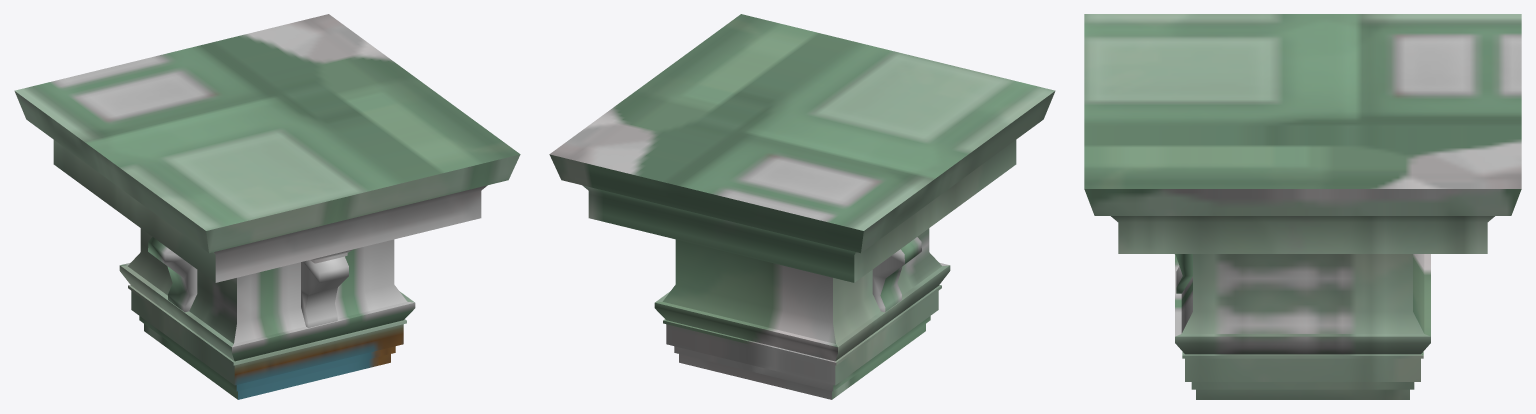
Rendered from qVin_Buld1_RoofColumn_Right.fbx.
3 renders of one model, left to right at view 1: azimuth 30°, elevation 25°; view 2: azimuth 150°, elevation 25°; view 3: azimuth 270°, elevation 25°, orthographic. The views are drawn at different scales.
Visible parts, largest first — view 1: qVin_Buld1_RoofColumn_Right; view 2: qVin_Buld1_RoofColumn_Right; view 3: qVin_Buld1_RoofColumn_Right.
Part boxes in pixels (x1,y1,x2,y2): qVin_Buld1_RoofColumn_Right: (14,14,520,399); qVin_Buld1_RoofColumn_Right: (549,14,1055,399); qVin_Buld1_RoofColumn_Right: (1084,14,1521,399).
Bounding box in the file's own units: 218 × 149 × 230.
1 material, 1 textured.
